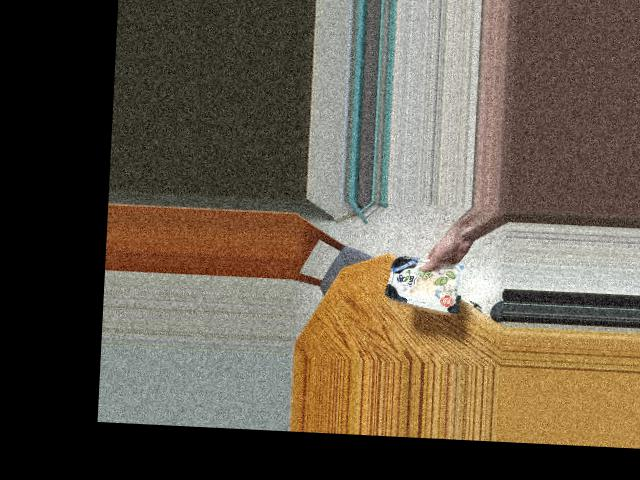cheese: (382, 254, 454, 310)
